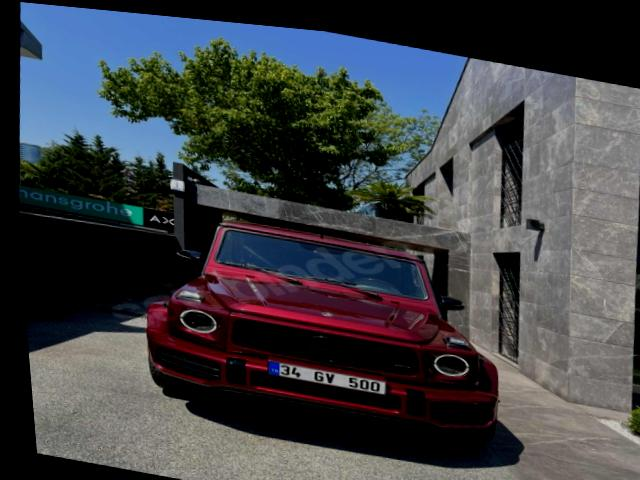plaka: (268, 361, 385, 394)
